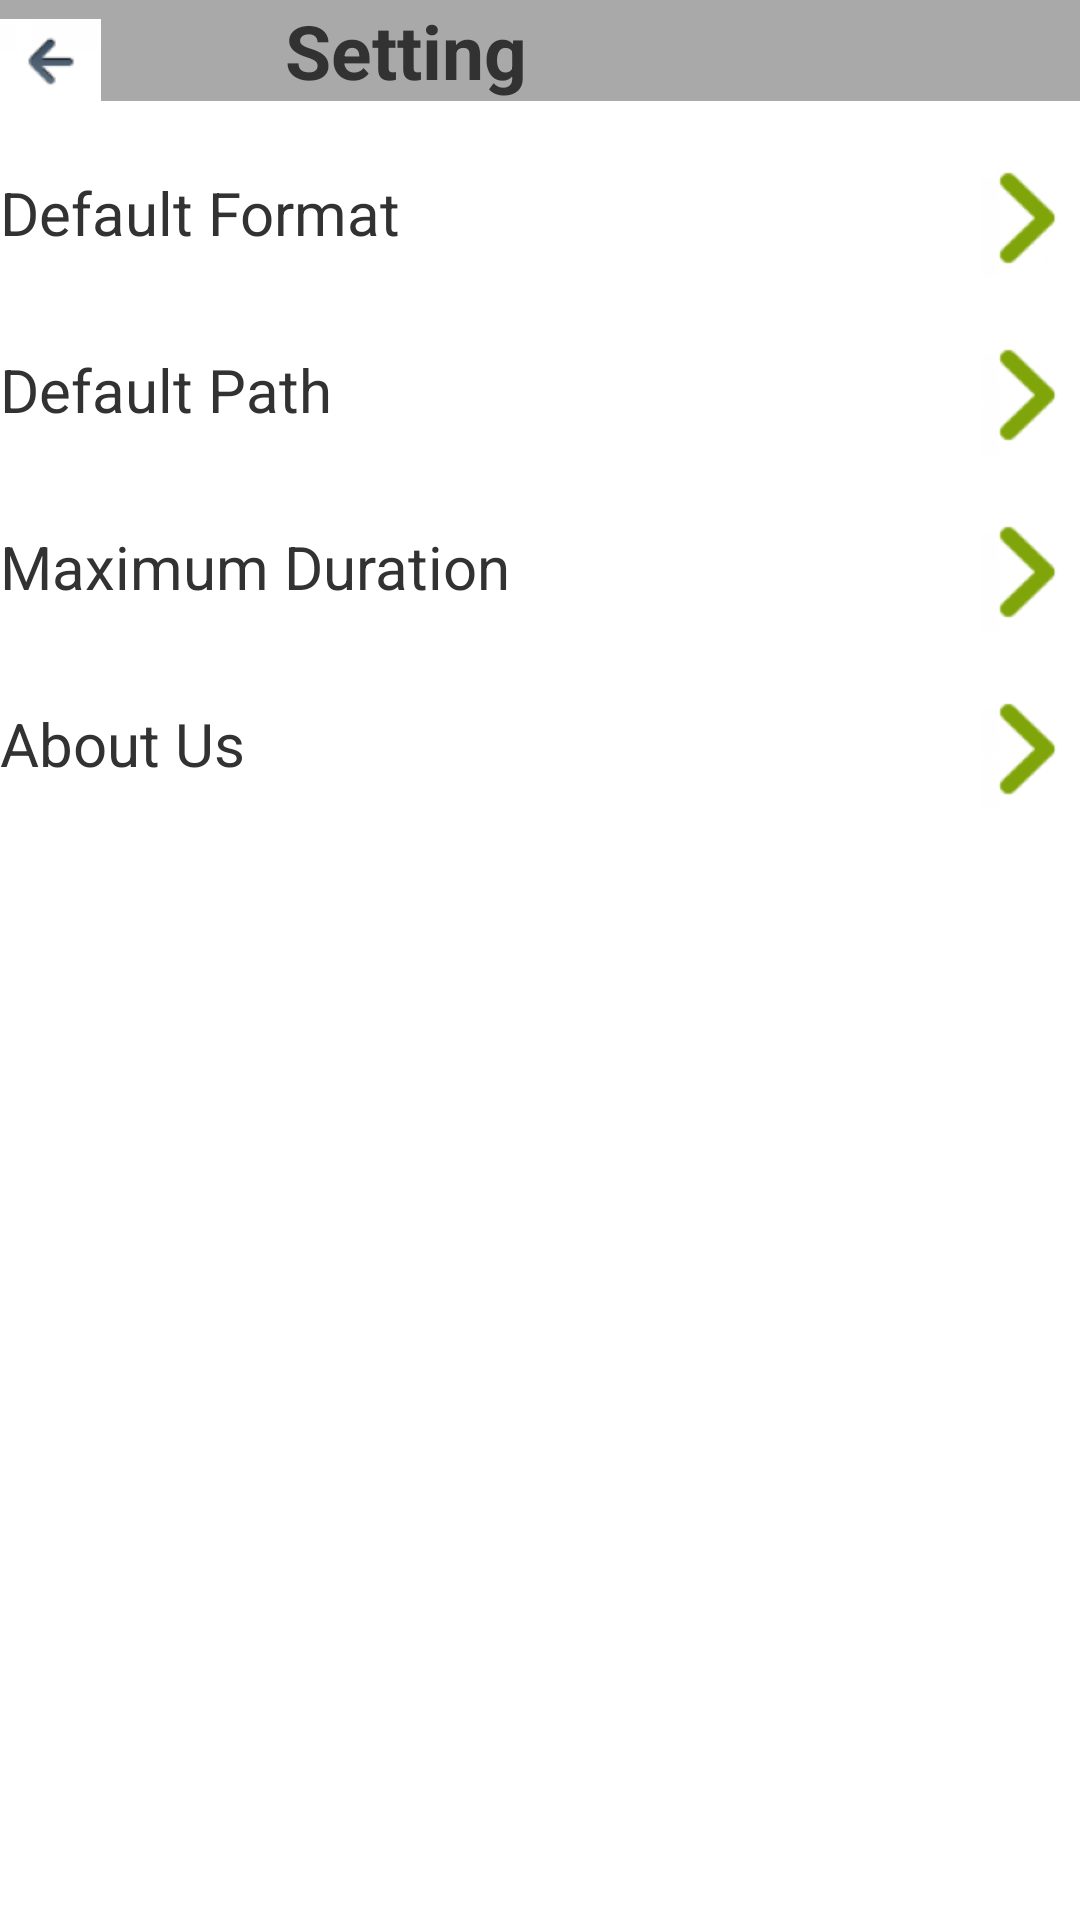

Icons on this 1080w x 1920h Android screen, each with its box as (x1, y1, x2, y2):
right arrow nor: (999, 172, 1056, 264), (999, 349, 1056, 441), (999, 526, 1056, 618), (999, 703, 1056, 795)
title back: (28, 38, 74, 85)
